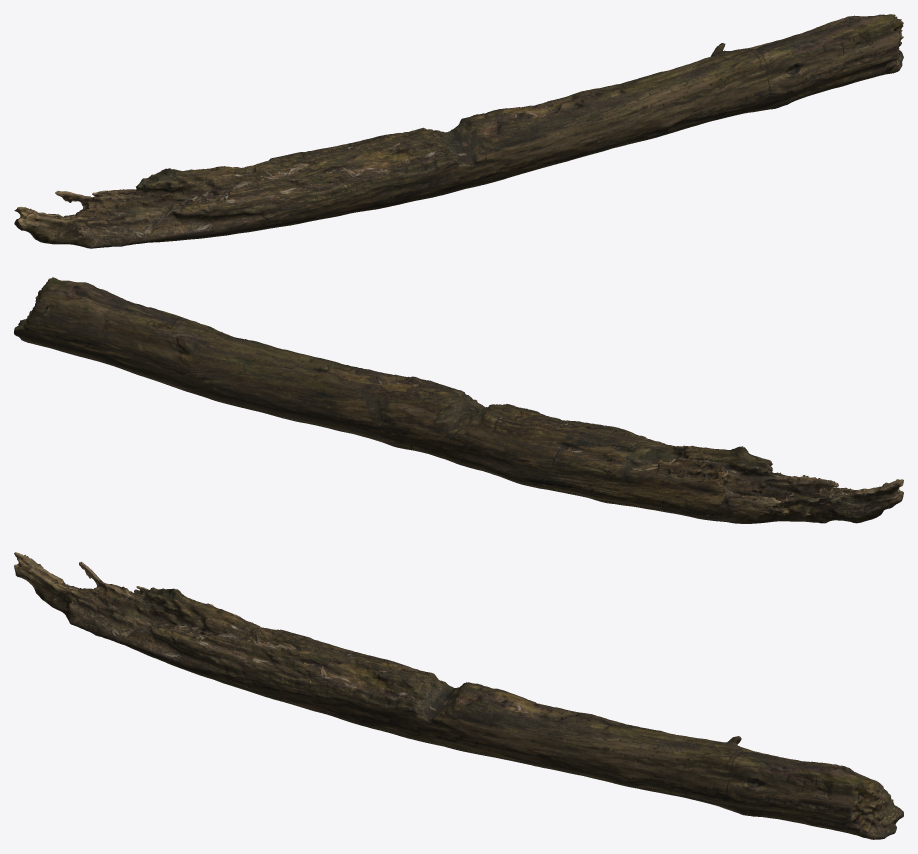
Rendered from log_fallen_a.glb.
3 renders of one model, top to bottom at view 1: azimuth 30°, elevation 25°; view 2: azimuth 150°, elevation 25°; view 3: azimuth 330°, elevation 25°, orthographic.
Visible parts, largest first — view 1: log_fallen_a; view 2: log_fallen_a; view 3: log_fallen_a.
Boxes of the visible parts, left/top/right/bottom form: log_fallen_a: left=14, top=14, right=903, bottom=248; log_fallen_a: left=14, top=277, right=903, bottom=523; log_fallen_a: left=14, top=552, right=903, bottom=839.
Bounding box in the file's own units: 15.25 × 1.45 × 1.39.
1 material, 1 textured.
